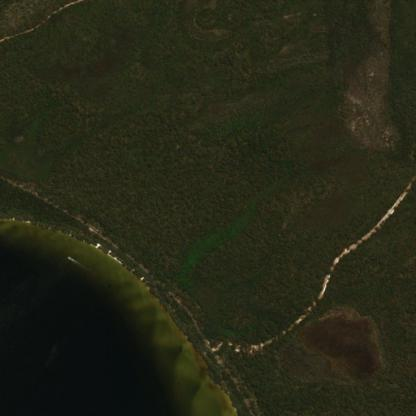ship: (63, 252, 74, 262)
